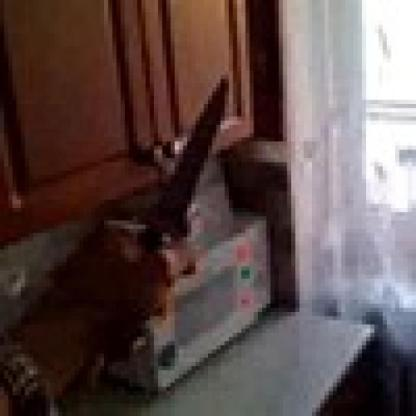Knife: (141, 75, 242, 258)
